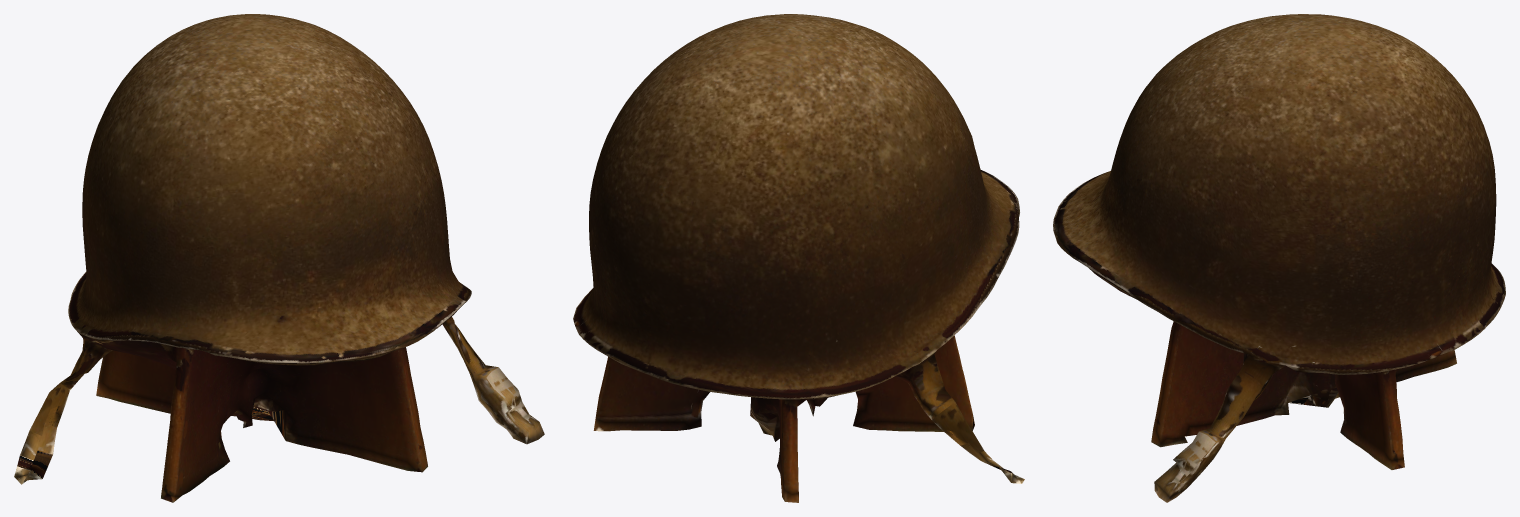
Rendered from lowpoly_AmericanHelmet2 (1).glb.
3 renders of one model, left to right at view 1: azimuth 30°, elevation 25°; view 2: azimuth 150°, elevation 25°; view 3: azimuth 270°, elevation 25°, orthographic. The views are drawn at different scales.
Parts seen in each view (by area): view 1: warhelmet_lowpoly; view 2: warhelmet_lowpoly; view 3: warhelmet_lowpoly.
Part boxes in pixels (x1,y1,x2,y2): warhelmet_lowpoly: [14, 14, 544, 502]; warhelmet_lowpoly: [573, 14, 1024, 502]; warhelmet_lowpoly: [1053, 14, 1505, 502].
Size of the model in its own units: 27.56 by 22.89 by 24.99.
Materials: 1 (1 with a texture image).
